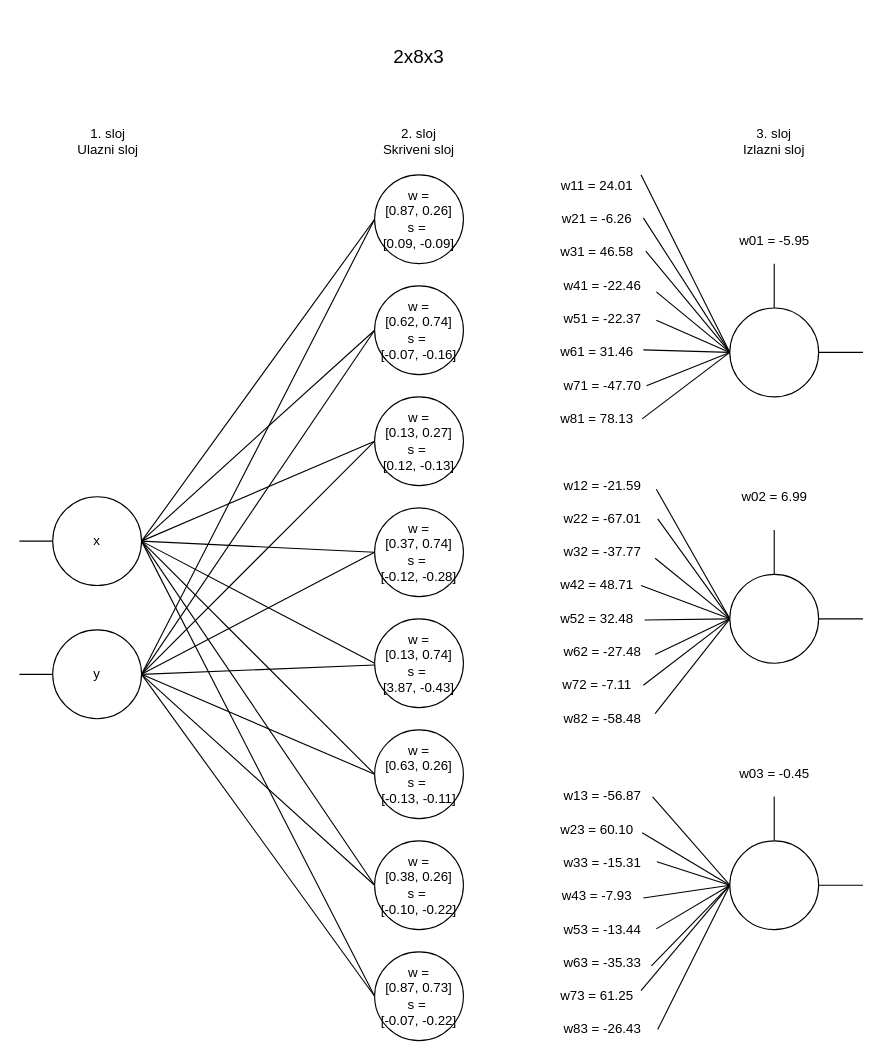
Some shapes in this 884 by 1060 pixel diagram are drawn without their labels. Each missing label, with the box of its shape:
y1: (729, 307, 819, 397)
y2: (729, 573, 819, 663)
y3: (729, 840, 819, 930)
